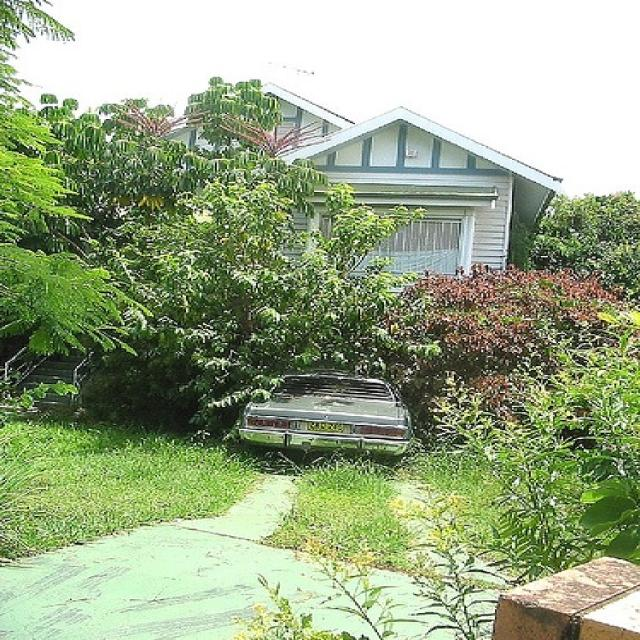car: (243, 371, 417, 456)
